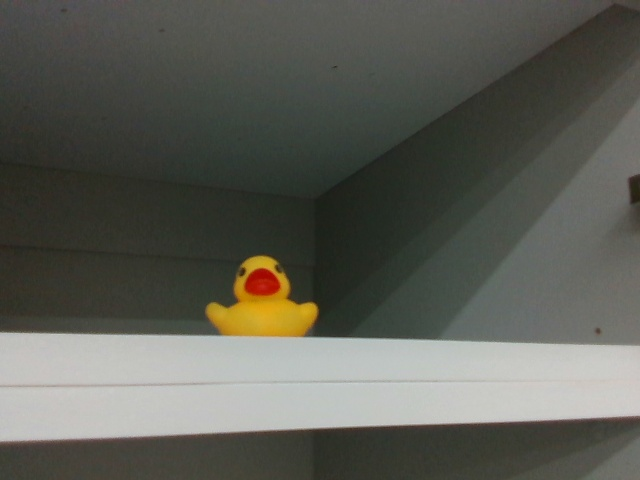duck: (202, 252, 323, 337)
